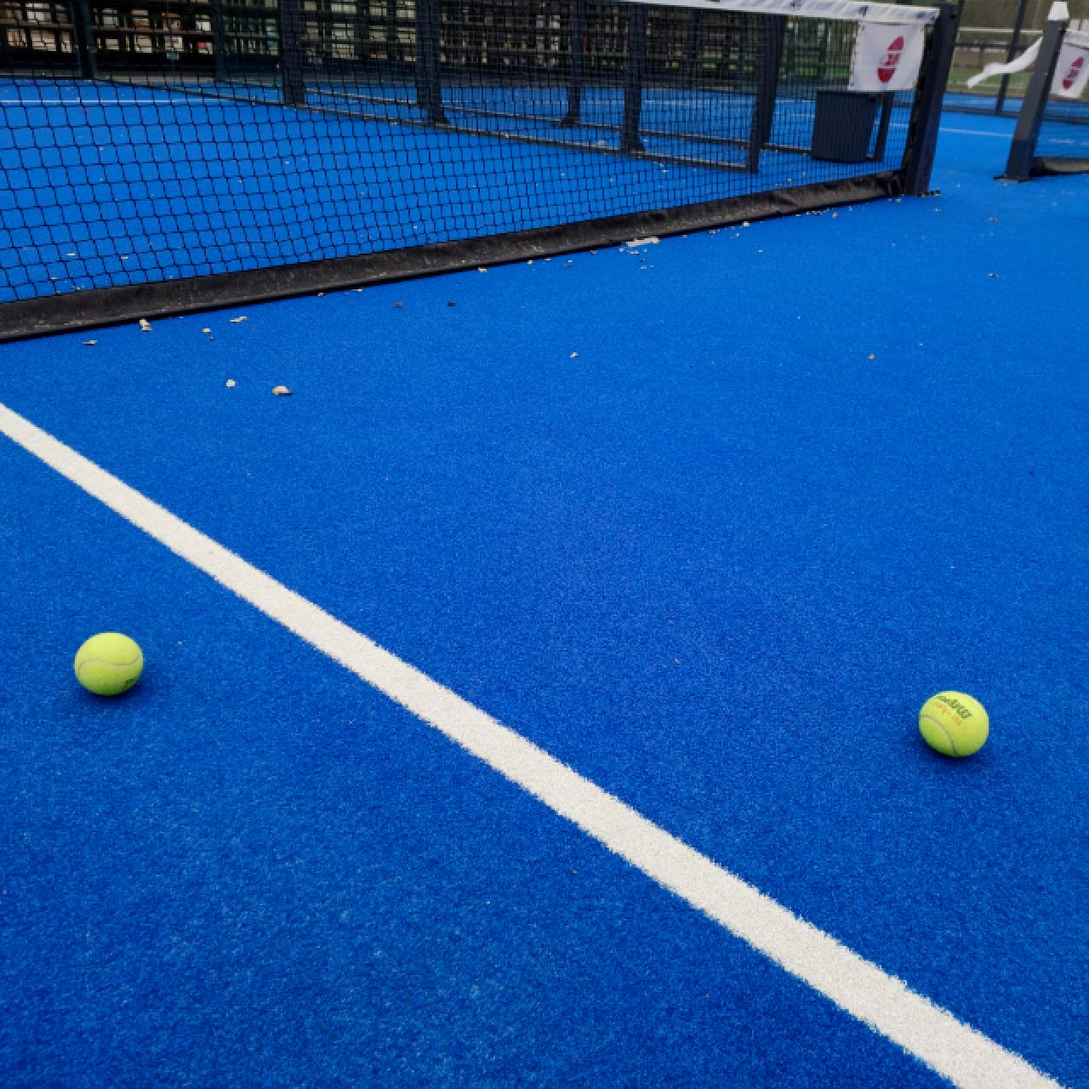tennis-ball: (917, 687, 990, 760), (73, 631, 145, 698)
